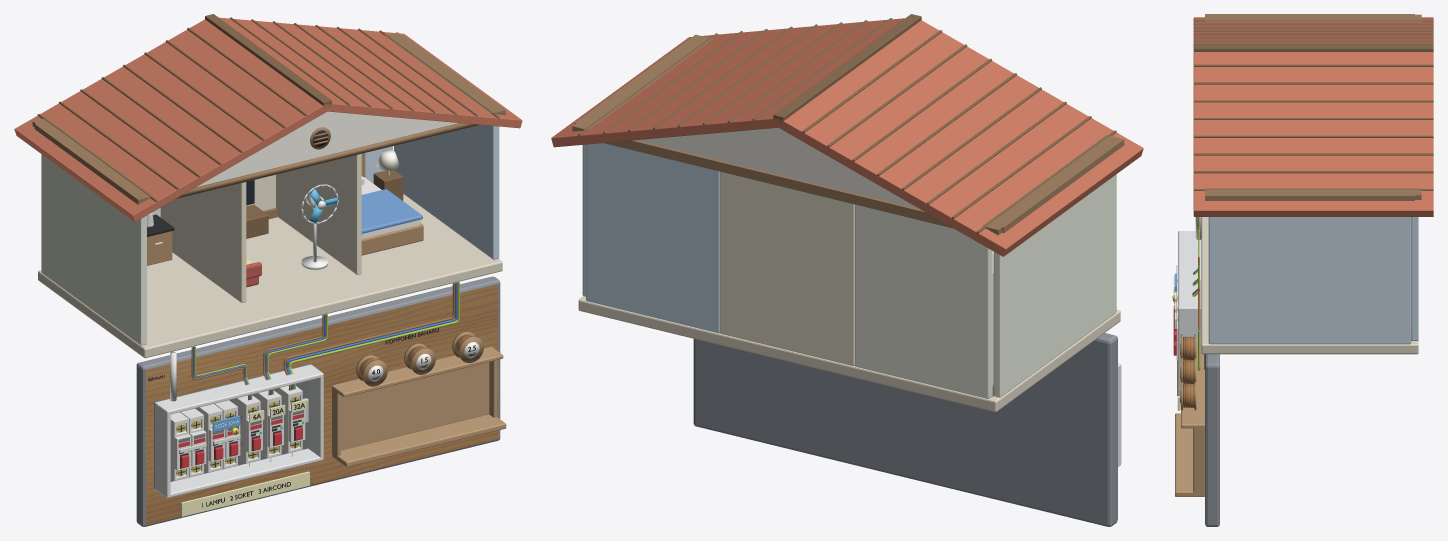
File: Rumah.glb
The picture shows the model from 3 angles, left to right: view 1: azimuth 30°, elevation 25°; view 2: azimuth 150°, elevation 25°; view 3: azimuth 270°, elevation 25°; orthographic projection. The views are drawn at different scales.
Visible parts, largest first — view 1: Atap, Dinding, Lantai, MukaPapan, RakMCB, KotakAgihan, PapanAgihan, Gable, Trim, Katil, LubangAngin, SuisUtama (+14 smaller); view 2: Dinding, Atap, PapanAgihan, Trim, Gable, Lantai; view 3: Atap, Dinding, Trim, Lantai, RakMCB, PapanAgihan, KotakAgihan, Gegelung_20, Gegelung_32, Gegelung_6.
Boxes of the visible parts, x1,y1,x2,y2 form: Atap: (14,14,522,222); Dinding: (41,125,499,345); Lantai: (38,194,502,358); MukaPapan: (146,284,498,525); RakMCB: (332,346,506,467); KotakAgihan: (154,364,323,498); PapanAgihan: (136,276,500,526); Gable: (196,111,458,187); Trim: (32,32,505,219); Katil: (361,153,423,255); LubangAngin: (176,123,479,198); SuisUtama: (170,408,206,480); Dinding: (582,143,1116,398); Atap: (551,14,1143,256); PapanAgihan: (693,333,1117,526); Trim: (572,34,1124,396); Gable: (637,127,919,209); Lantai: (578,296,1120,412); Atap: (1193,17,1433,216); Dinding: (1208,217,1418,344); Trim: (1205,14,1421,341); Lantai: (1201,217,1418,354); RakMCB: (1175,346,1204,496); PapanAgihan: (1205,354,1219,526); KotakAgihan: (1178,231,1201,395); Gegelung_20: (1180,382,1196,410); Gegelung_32: (1180,334,1196,360); Gegelung_6: (1180,358,1196,383).
Bounding box in the file's own units: 0.6089 × 0.578 × 0.3488.
47 materials, 2 textured.
